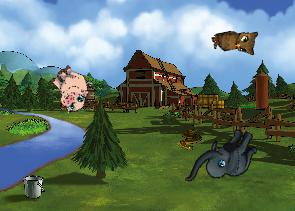elephant: (184, 115, 262, 201)
owl: (210, 26, 261, 62)
pig: (42, 60, 98, 116)
